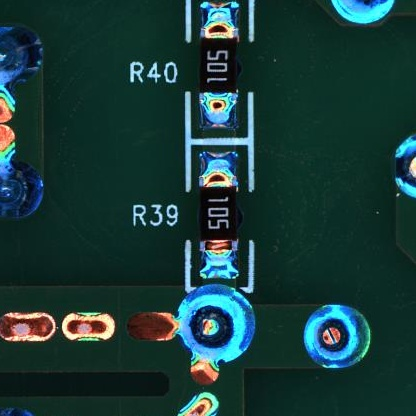spot: (181, 283, 258, 363), (304, 303, 375, 372)
